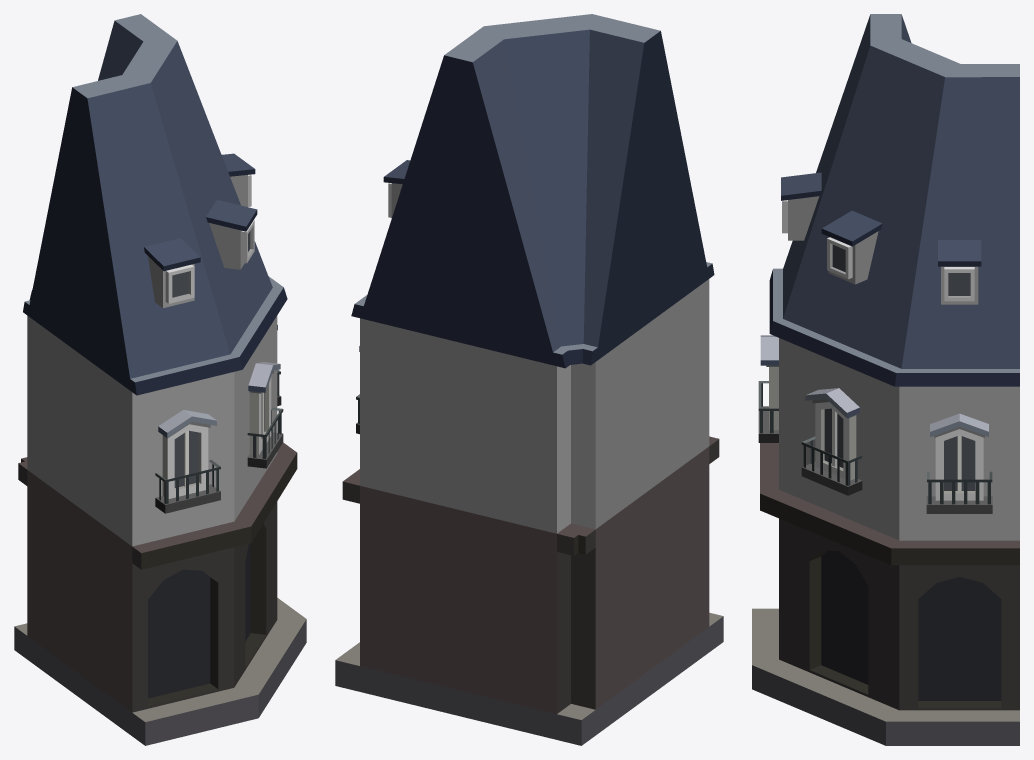
Rendered from TB_CITY_BD_T_RCorner_2_B.FBX.
The picture shows the model from 3 angles, left to right: view 1: azimuth 30°, elevation 25°; view 2: azimuth 150°, elevation 25°; view 3: azimuth 270°, elevation 25°; orthographic projection. The views are drawn at different scales.
Parts seen in each view (by area): view 1: TB_CITY_BD_T_RCorner_2_B; view 2: TB_CITY_BD_T_RCorner_2_B; view 3: TB_CITY_BD_T_RCorner_2_B.
Boxes of the visible parts, left/top/right/bottom form: TB_CITY_BD_T_RCorner_2_B: left=14, top=14, right=306, bottom=745; TB_CITY_BD_T_RCorner_2_B: left=335, top=14, right=723, bottom=745; TB_CITY_BD_T_RCorner_2_B: left=752, top=14, right=1019, bottom=745.
Bounding box in the file's own units: 7.99 × 20.37 × 7.99.
